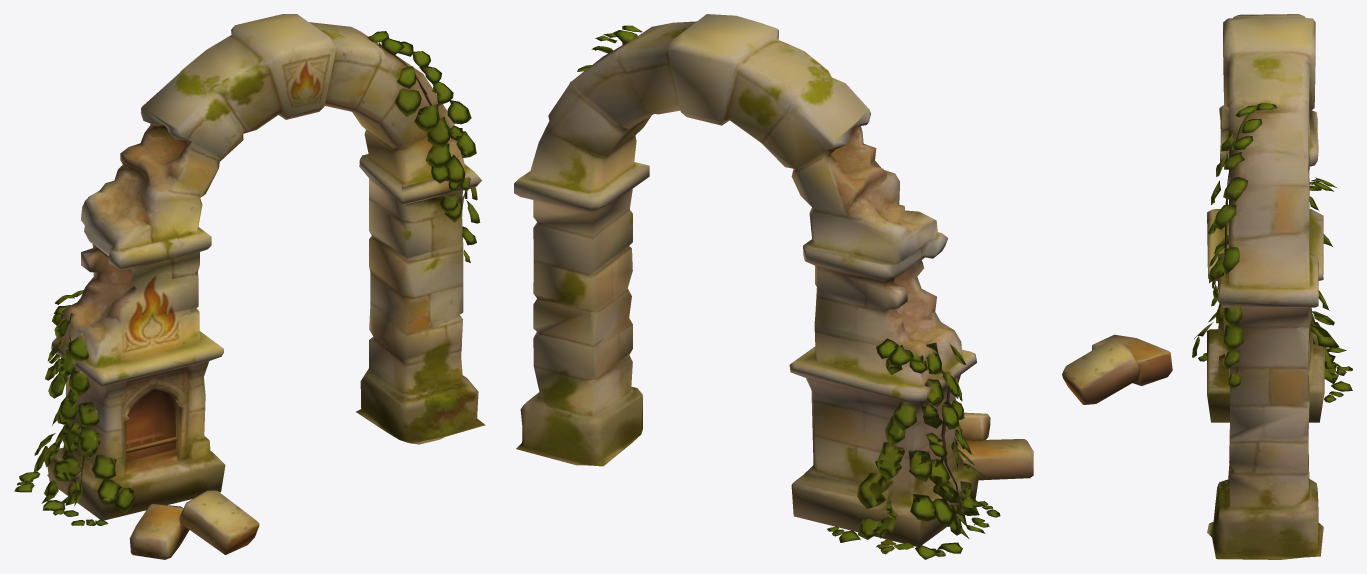
File: wyn_ruin_hearth_arch.glb
3 renders of one model, left to right at view 1: azimuth 30°, elevation 25°; view 2: azimuth 150°, elevation 25°; view 3: azimuth 270°, elevation 25°, orthographic. The views are drawn at different scales.
Visible parts, largest first — view 1: tripo_node_85128641-e116-44d8-9b4b-6eb3957275da; view 2: tripo_node_85128641-e116-44d8-9b4b-6eb3957275da; view 3: tripo_node_85128641-e116-44d8-9b4b-6eb3957275da.
Part boxes in pixels (<box>): tripo_node_85128641-e116-44d8-9b4b-6eb3957275da: <box>14,14,485,559</box>; tripo_node_85128641-e116-44d8-9b4b-6eb3957275da: <box>514,14,1033,559</box>; tripo_node_85128641-e116-44d8-9b4b-6eb3957275da: <box>1062,14,1352,559</box>.
Bounding box in the file's own units: 5.31 × 5 × 3.
Materials: 1 (1 with a texture image).
